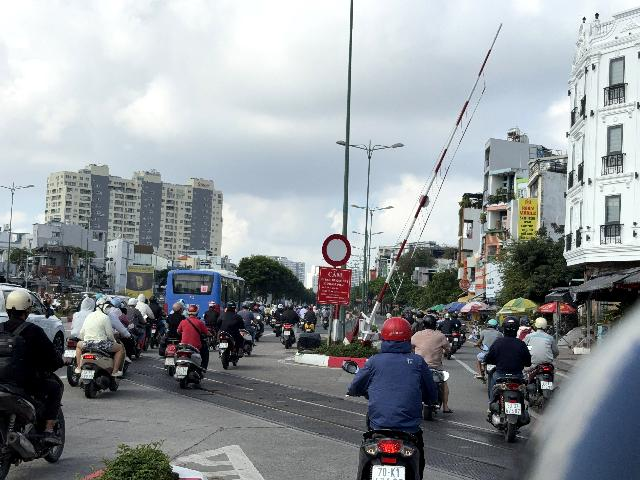duong-cam: (322, 234, 352, 267)
